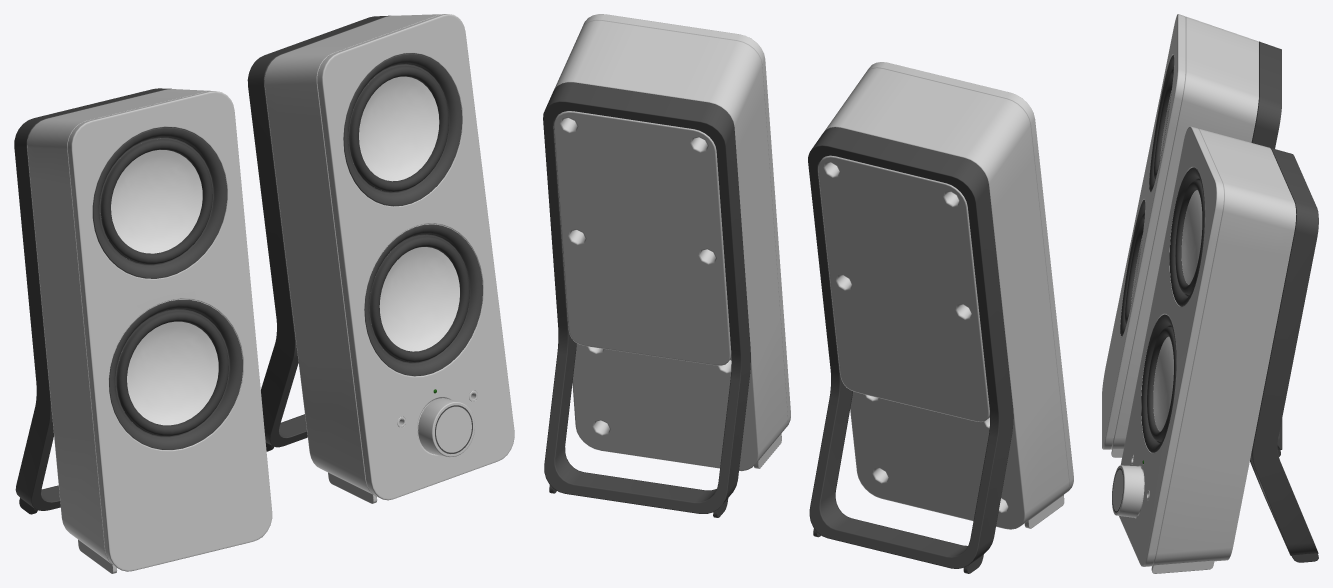
File: caixas-som.glb
The picture shows the model from 3 angles, left to right: view 1: azimuth 30°, elevation 25°; view 2: azimuth 150°, elevation 25°; view 3: azimuth 270°, elevation 25°; orthographic projection. The views are drawn at different scales.
Visible parts, largest first — view 1: Object_4, Object_6, Object_7; view 2: Object_4; view 3: Object_4, Object_7, Object_6.
Boxes of the visible parts, box(x1,y1,x2,y2) form: Object_4: box(14, 14, 514, 573); Object_6: box(111, 76, 459, 425); Object_7: box(100, 65, 469, 436); Object_4: box(543, 14, 1073, 573); Object_4: box(1102, 14, 1318, 573); Object_7: box(1125, 69, 1204, 441); Object_6: box(1131, 90, 1202, 431).
Size of the model in its own units: 5.26 by 4.96 by 2.55.
Materials: 4 (4 with a texture image).
